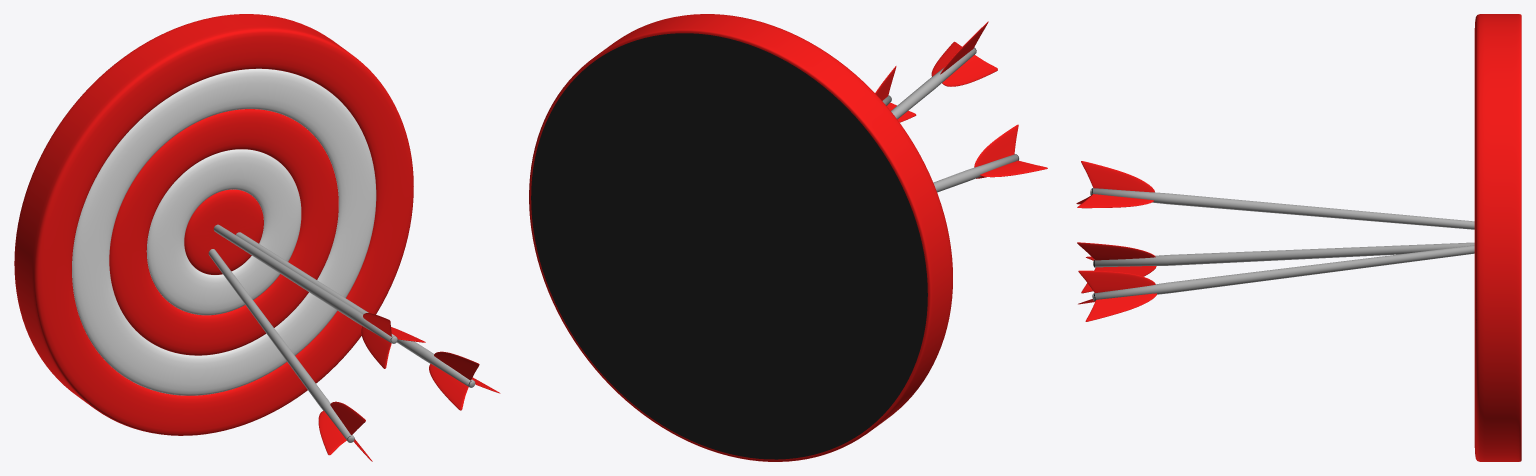
File: target.glb
3 renders of one model, left to right at view 1: azimuth 30°, elevation 25°; view 2: azimuth 150°, elevation 25°; view 3: azimuth 270°, elevation 25°, orthographic. The views are drawn at different scales.
Visible parts, largest first — view 1: Scheibe, Pfeil 02, Pfeil 03, Pfeil 01, Feder.001, Feder.008, Feder.013, Feder.004, Feder.006; view 2: Scheibe, Pfeil 03, Pfeil 02, Feder.013, Feder.006, Feder.008; view 3: Scheibe, Pfeil 01, Pfeil 03, Pfeil 02, Feder.011, Feder.004, Feder.005, Feder.006, Feder.015, Feder.010.
Boxes of the visible parts, x1,y1,x2,y2 form: Scheibe: (14,14,413,435); Pfeil 02: (208,249,354,442); Pfeil 03: (213,224,397,343); Pfeil 01: (236,232,475,387); Feder.001: (429,363,468,410); Feder.008: (318,410,346,454); Feder.013: (361,326,391,368); Feder.004: (434,351,479,380); Feder.006: (330,401,365,435); Scheibe: (529,14,952,461); Pfeil 03: (891,47,976,119); Pfeil 02: (933,154,1019,192); Feder.013: (942,55,997,85); Feder.006: (974,124,1018,167); Feder.008: (980,160,1047,176); Scheibe: (1474,14,1521,461); Pfeil 01: (1092,245,1474,301); Pfeil 03: (1090,188,1474,229); Pfeil 02: (1093,242,1474,267); Feder.011: (1081,161,1154,192); Feder.004: (1078,270,1155,292); Feder.005: (1085,293,1156,321); Feder.006: (1077,242,1155,260); Feder.015: (1077,194,1153,208); Feder.010: (1081,266,1156,293).
Bounding box in the file's own units: 1.99 × 1.99 × 1.98.
